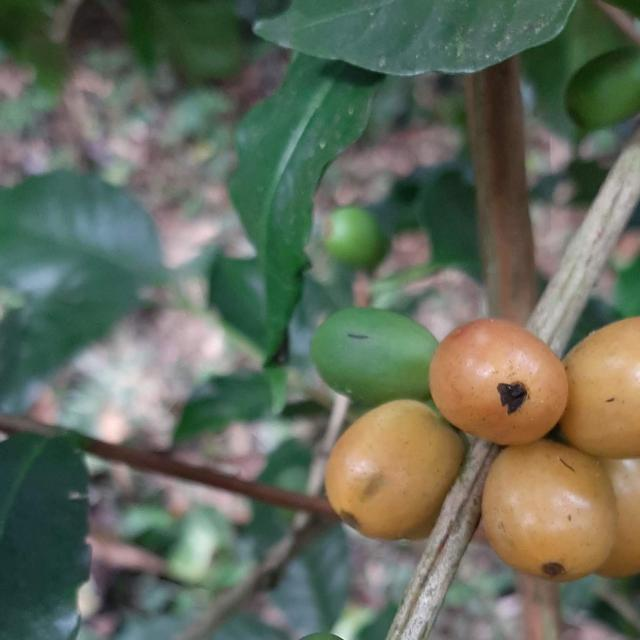green: (312, 308, 439, 406), (567, 46, 640, 129), (324, 206, 390, 271)
red: (326, 400, 466, 541), (483, 440, 618, 583), (430, 319, 569, 446), (560, 317, 640, 459), (597, 459, 640, 579)
